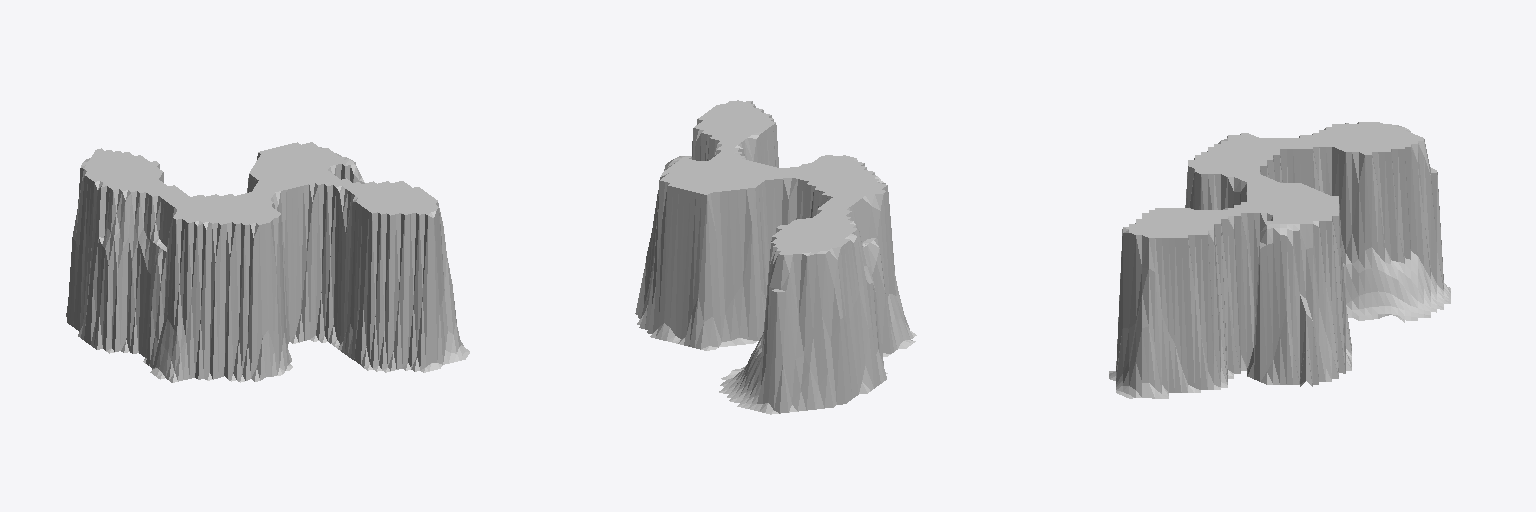
The model's file is Timeforest_KM3_Terrian.obj.
The picture shows the model from 3 angles: view 1: azimuth 30°, elevation 25°; view 2: azimuth 150°, elevation 25°; view 3: azimuth 270°, elevation 25°; orthographic projection.
Parts seen in each view (by area): view 1: default; view 2: default; view 3: default.
Part boxes in pixels (x1,y1,x2,y2): default: (66,142,469,382); default: (635,100,916,414); default: (1109,122,1450,398).
Bounding box in the file's own units: 27.28 × 14.01 × 28.95.